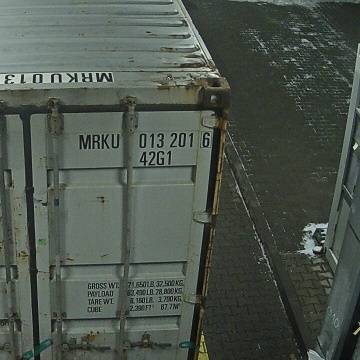serial_id: (79, 132, 210, 149)
